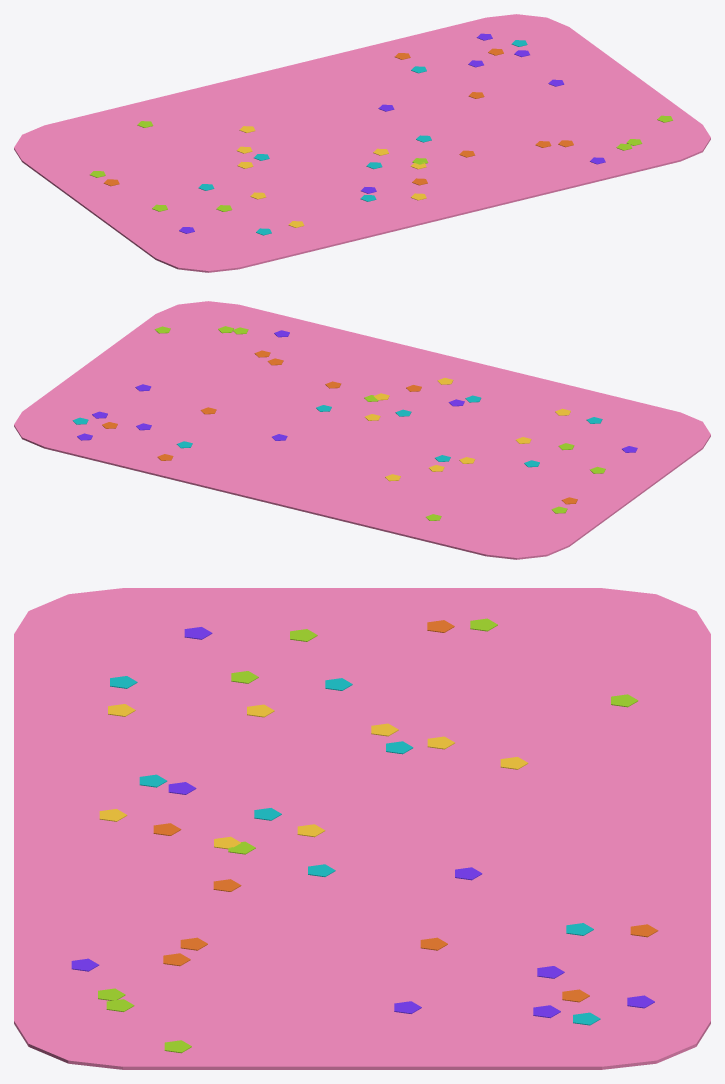
3 views of the same model, one above another, from view 1: azimuth 30°, elevation 25°; view 2: azimuth 150°, elevation 25°; view 3: azimuth 270°, elevation 25° (orthographic). The views are drawn at different scales.
Parts seen in each view (by area): view 1: carpet_body; view 2: carpet_body; view 3: carpet_body.
Part boxes in pixels (x1,y1,x2,y2): carpet_body: (14, 14, 710, 272); carpet_body: (14, 301, 710, 559); carpet_body: (14, 588, 710, 1069).
Size of the model in its own units: 2.6 by 0.01 by 1.6.
